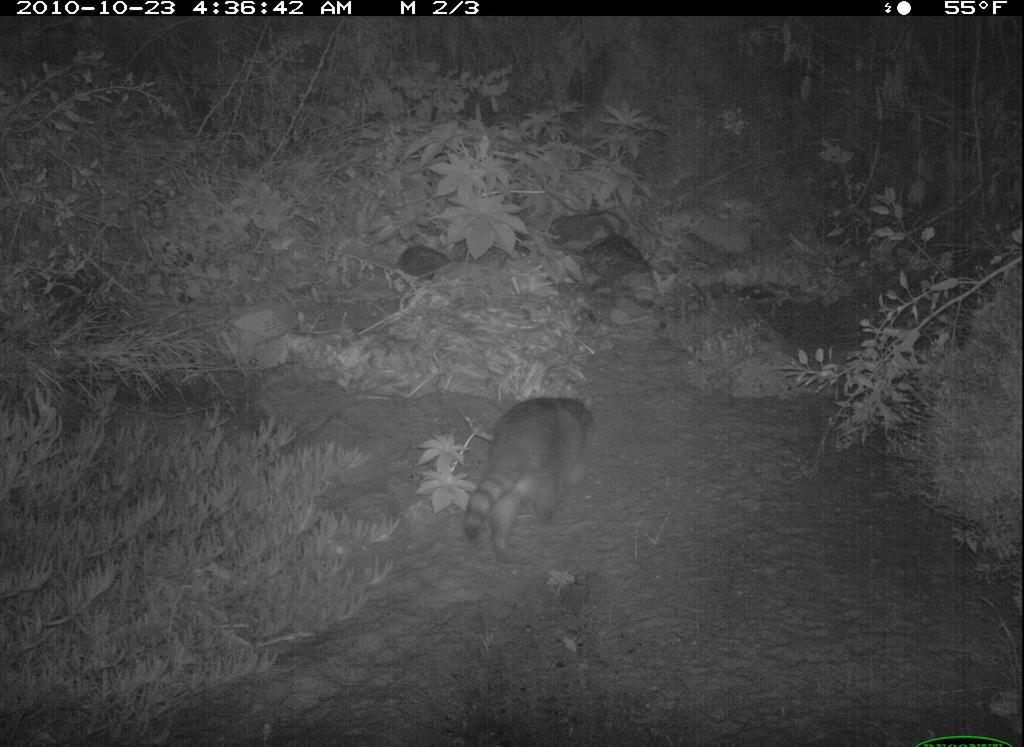raccoon: (461, 390, 600, 571)
